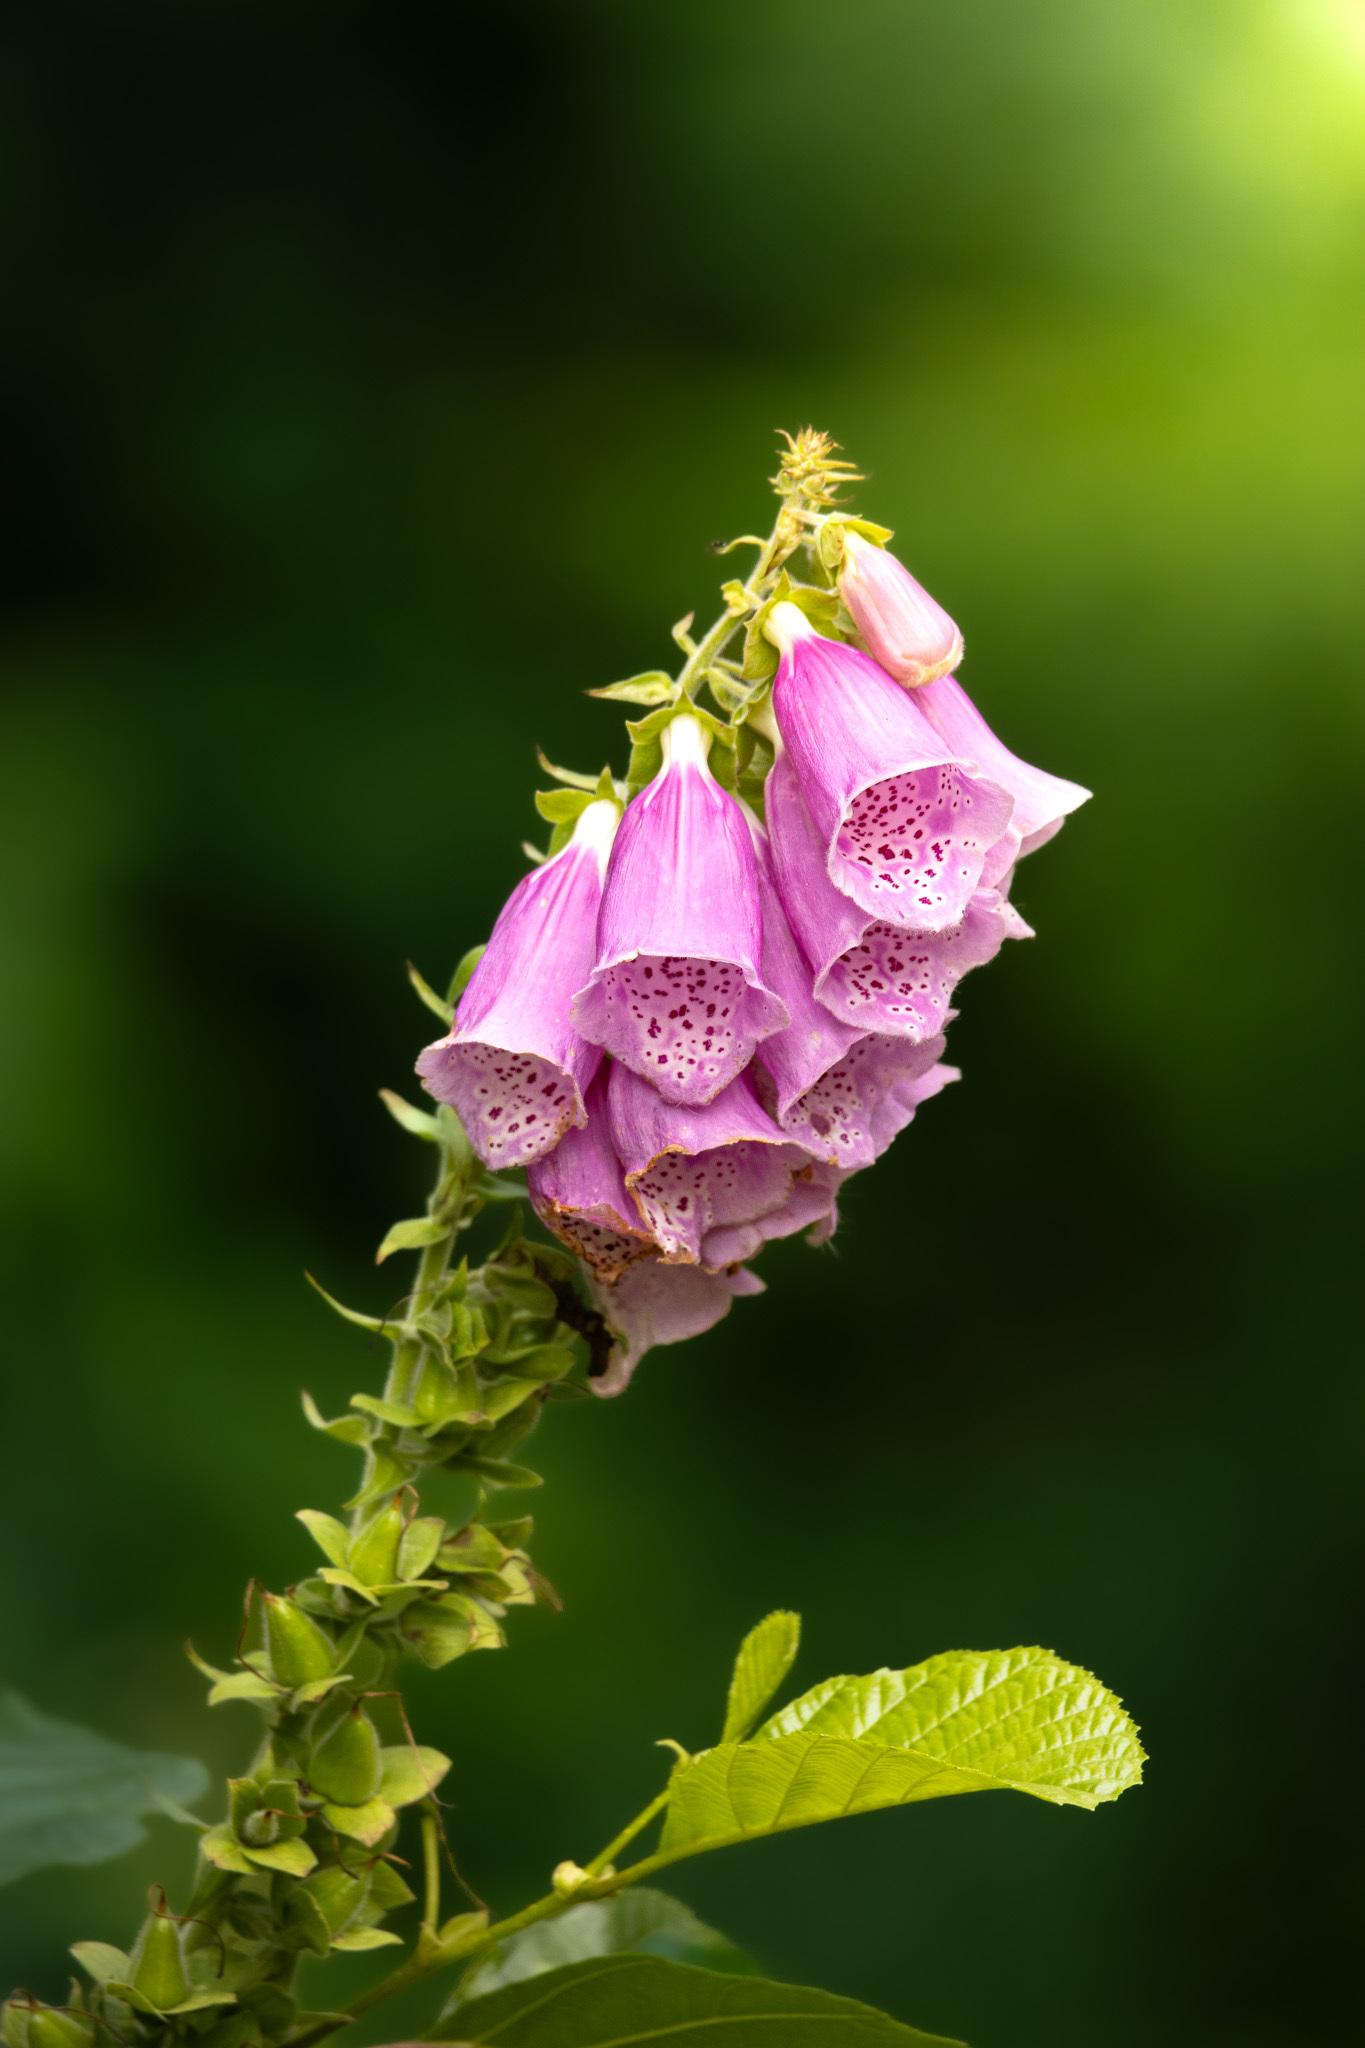Digitalis L: (43, 413, 1120, 2015)
